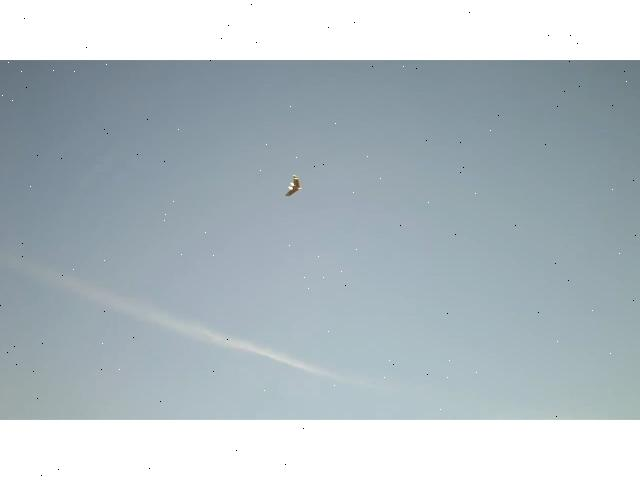Anti-Drone: (284, 175, 302, 197)
